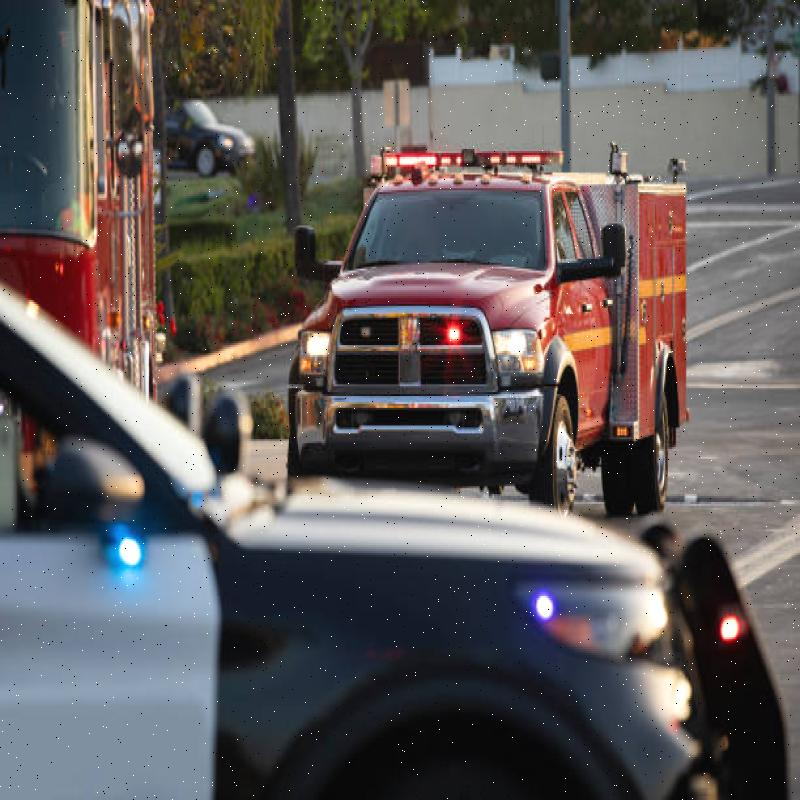AmbulanceSiren: (364, 108, 569, 188)
